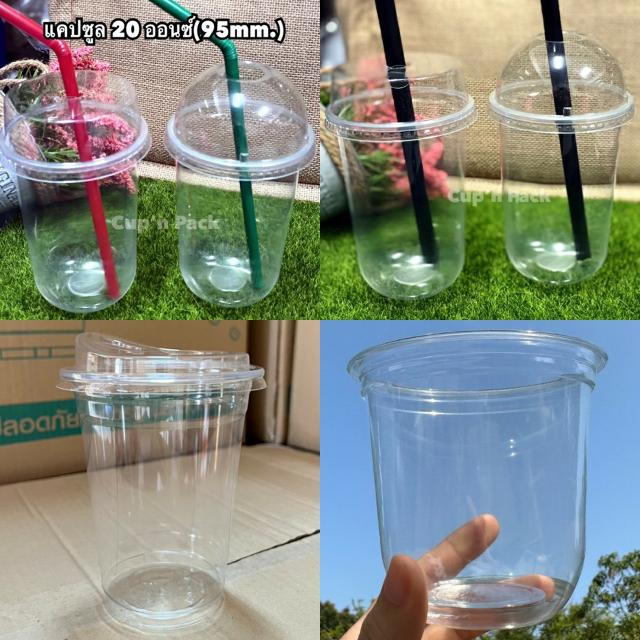Single-Use-Plastic: (348, 331, 608, 629), (59, 332, 265, 629), (325, 54, 478, 300), (165, 61, 316, 307), (488, 32, 635, 284), (0, 70, 151, 312)
